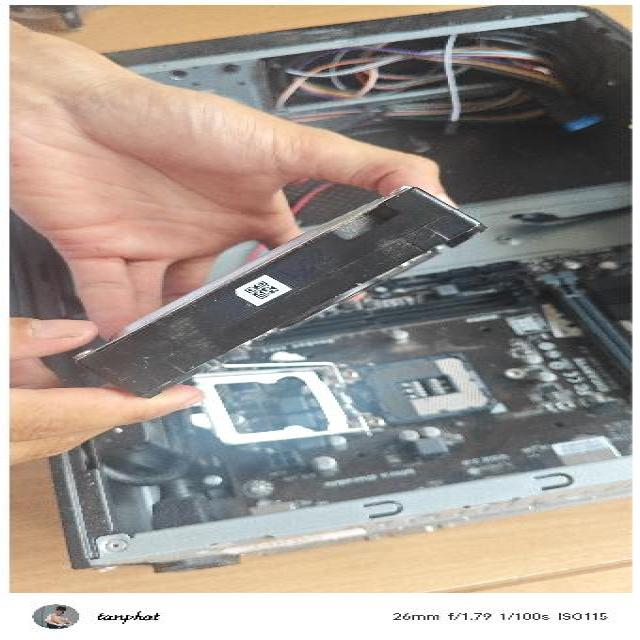DISK: (66, 182, 493, 400)
